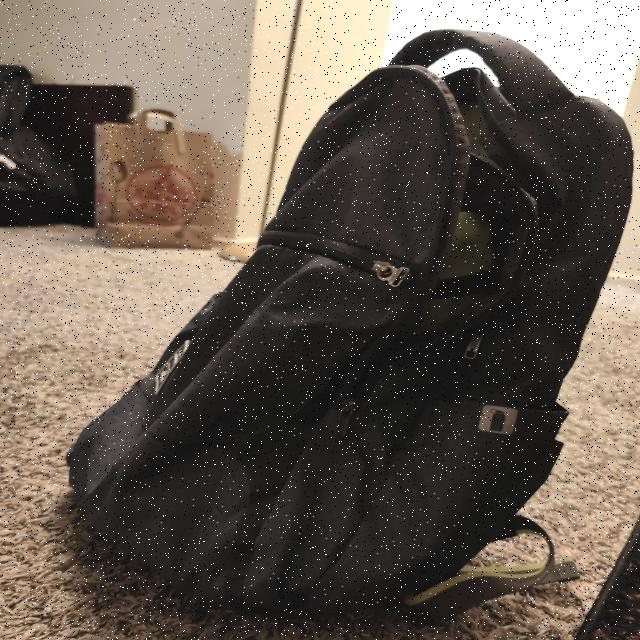bag: (65, 39, 581, 603)
